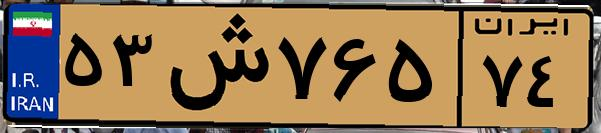3: (110, 28, 158, 98)
4: (525, 38, 570, 115)
5: (385, 28, 445, 110), (57, 26, 110, 100)
6: (330, 28, 385, 110)
7: (270, 28, 330, 110), (475, 38, 525, 113)
ش: (158, 12, 270, 120)
